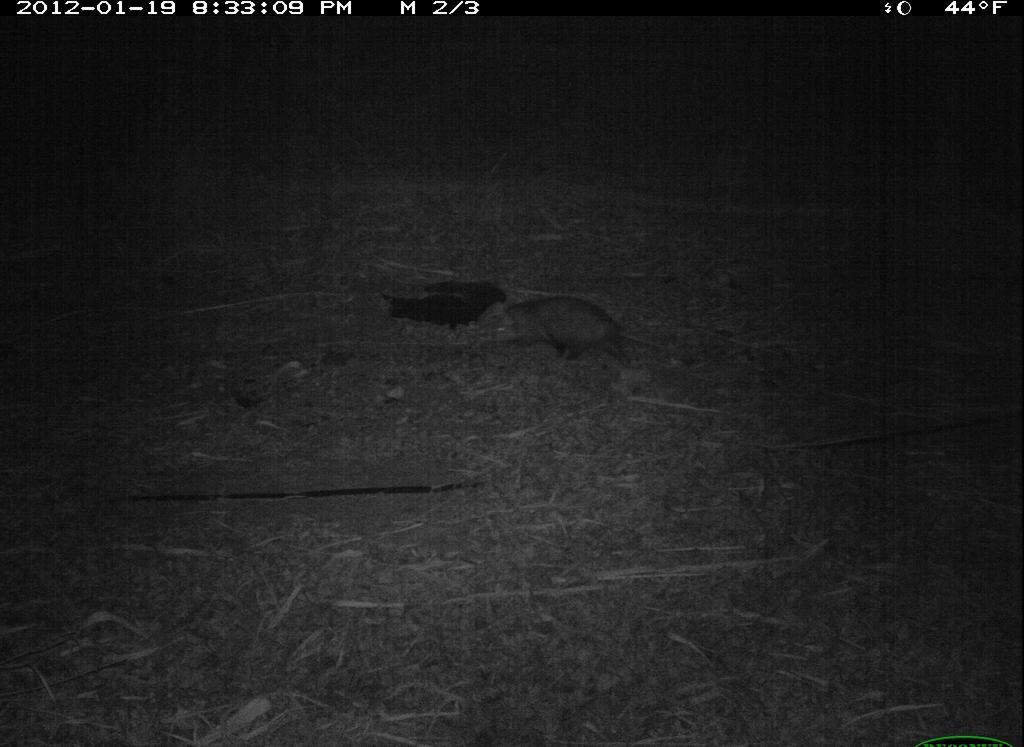opossum: (483, 281, 694, 374)
